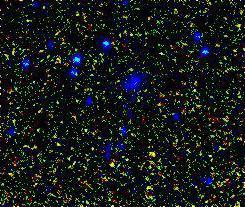star: (95, 152, 125, 182)
